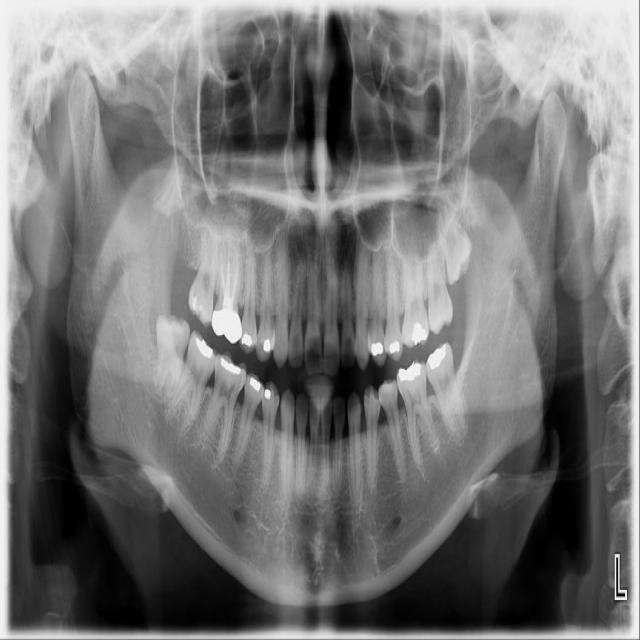Crown: (212, 305, 242, 344)
Filling: (188, 291, 209, 324), (398, 361, 424, 385), (220, 357, 245, 377), (426, 345, 446, 368), (195, 336, 213, 359), (411, 321, 427, 344), (371, 340, 384, 356), (249, 378, 261, 392), (241, 332, 253, 346), (389, 341, 400, 354), (262, 339, 271, 354), (263, 389, 271, 400)
Root Canal Treatment: (219, 251, 224, 294), (234, 243, 238, 293), (227, 241, 230, 291)
impacted tooth: (434, 194, 474, 282), (151, 316, 190, 396)
